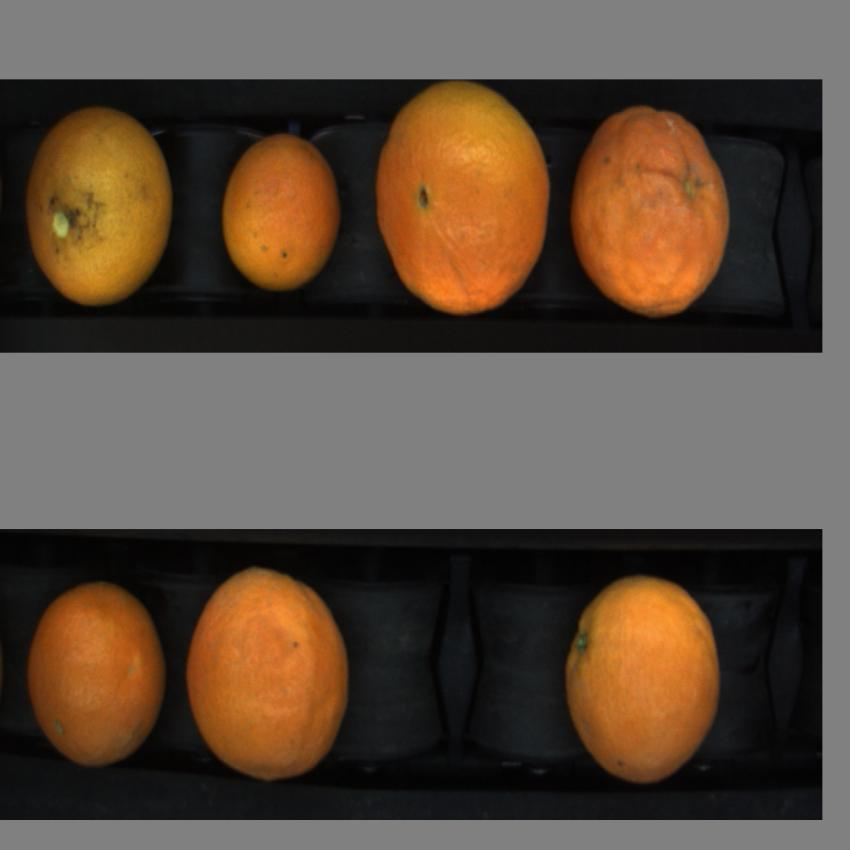Buen estado: (373, 75, 549, 318), (181, 569, 362, 785), (565, 567, 727, 785), (26, 114, 180, 304), (22, 586, 169, 770), (217, 121, 342, 296)
Mal estado: (569, 105, 735, 325)
